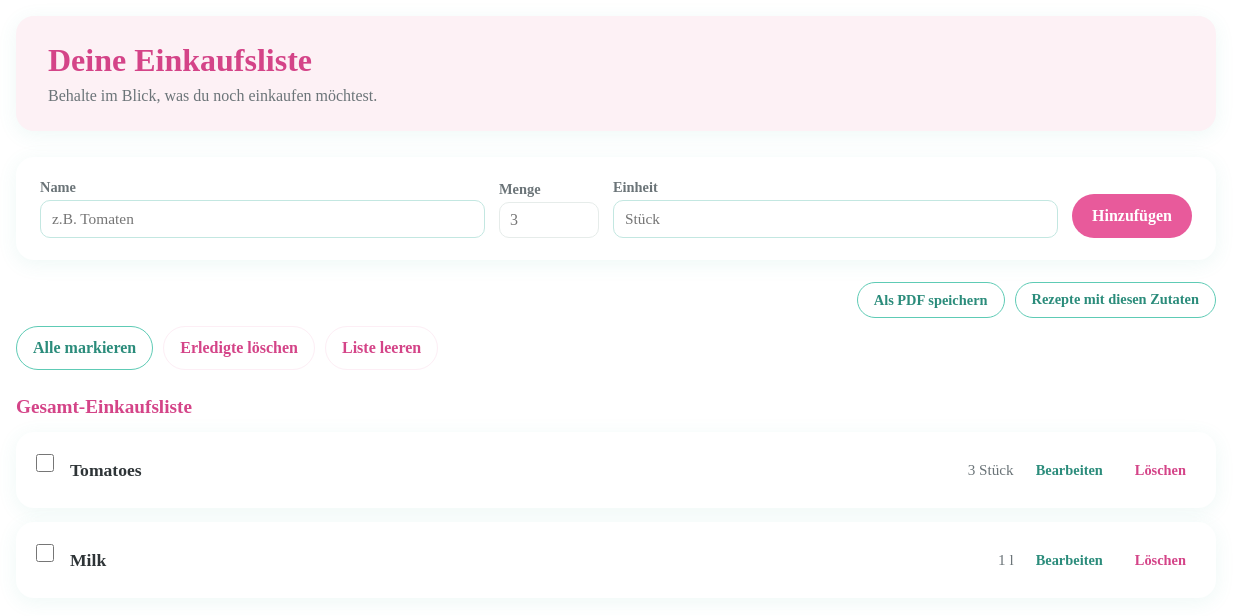
ShoppingListView › deletes a shopping list item and removes it from the list
Click the button with class "delete-btn" in the row of "3 Stück": (1160, 470) [1125,450,1196,490]
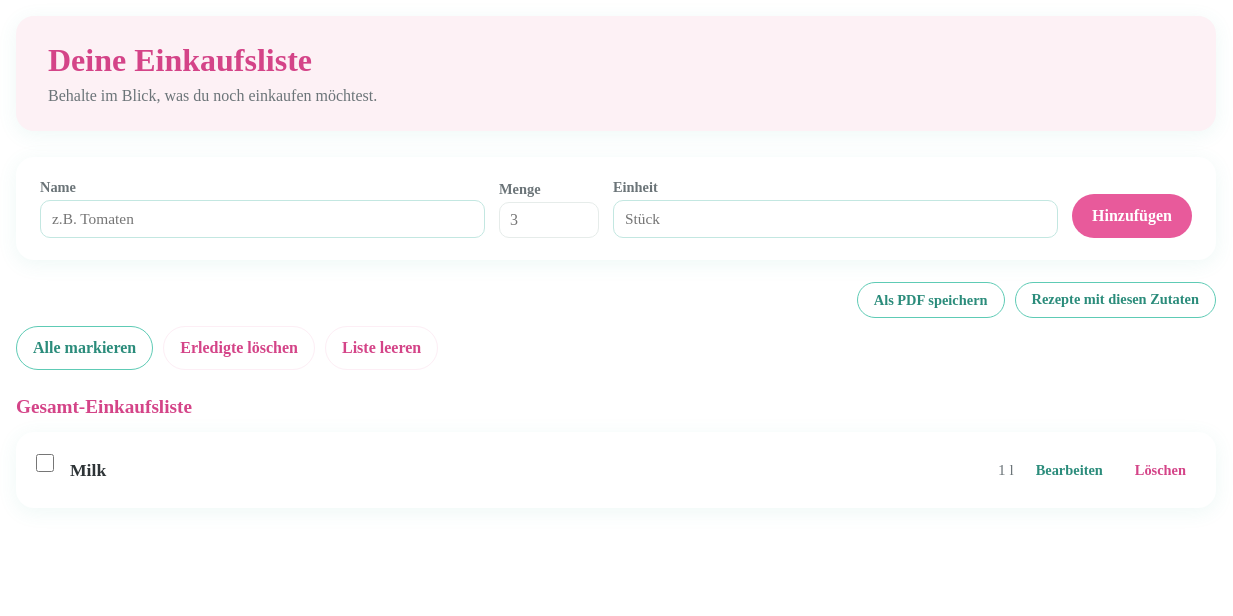
Check: the text "Milk" is shown, box [70,460,106,480]
Check: the text "Tomatoes" is gone
